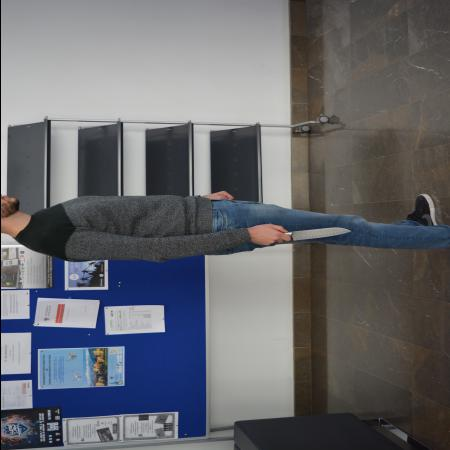long weapon: (276, 225, 354, 244)
